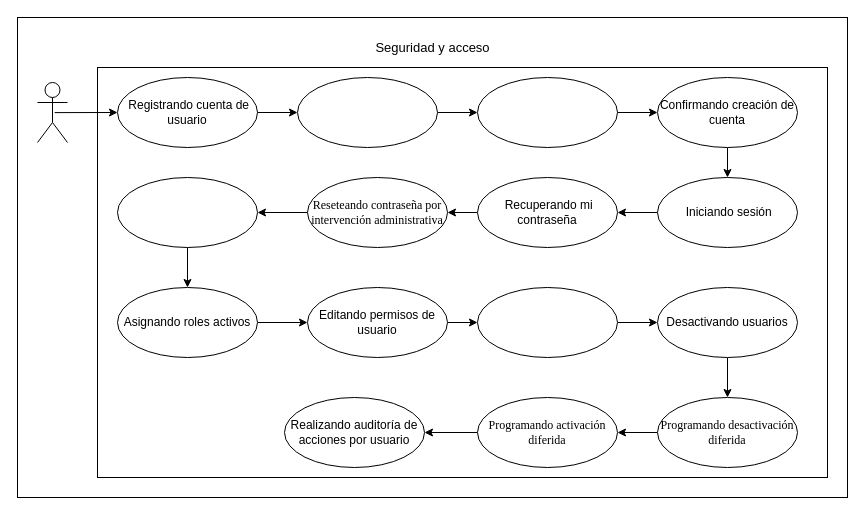
The diagram is 865 pixels wide and 515 high, and some of its shapes have lost their labels. Each missing label, with the centre of its shape:
"Asignando rol a usuario" belongs at (547,112).
"Gerencia" belongs at (52,112).
"Modificando estado del usuario" belongs at (547,322).
"Validando formato de email" belongs at (367,112).
"Validando la identidad del usuario" belongs at (187,212).
